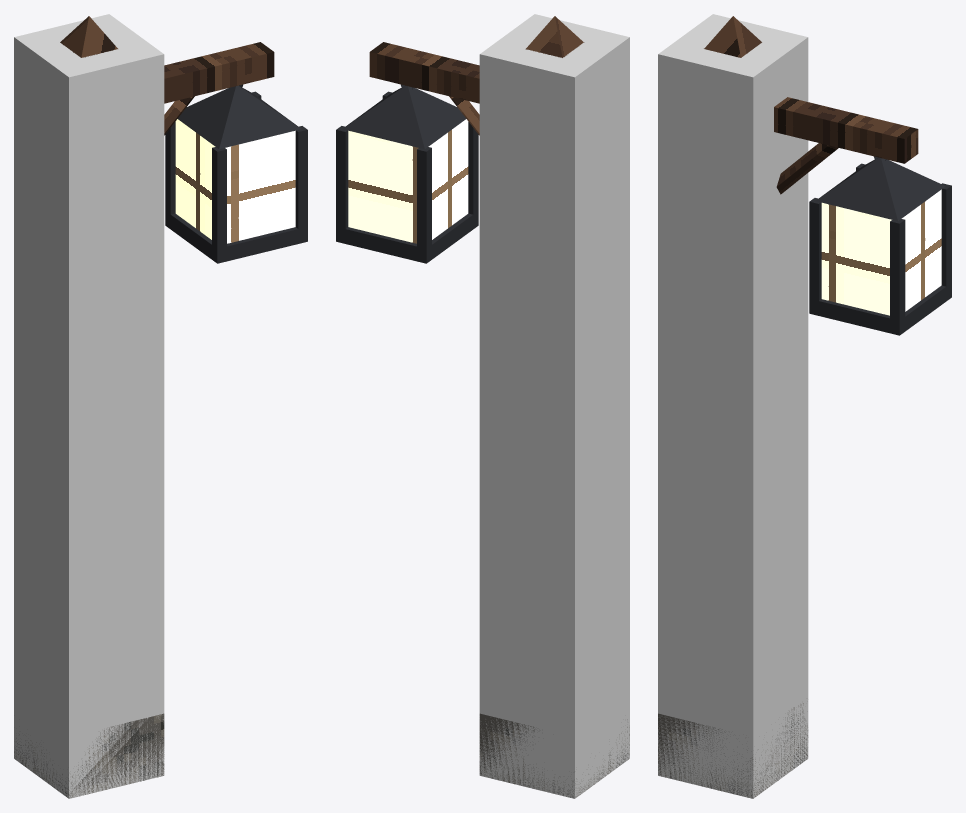
File: JP_Prop_LampPost_A.glb
3 views of the same model, side by side, from view 1: azimuth 30°, elevation 25°; view 2: azimuth 150°, elevation 25°; view 3: azimuth 330°, elevation 25° (orthographic).
Visible parts, largest first — view 1: COL_JP_Prop_LampPost_A, JP_Prop_LampPost_A; view 2: COL_JP_Prop_LampPost_A, JP_Prop_LampPost_A; view 3: COL_JP_Prop_LampPost_A, JP_Prop_LampPost_A.
Part boxes in pixels (box(x1,y1,x2,y2)): COL_JP_Prop_LampPost_A: box(14, 14, 164, 798); JP_Prop_LampPost_A: box(14, 16, 307, 798); COL_JP_Prop_LampPost_A: box(479, 14, 629, 798); JP_Prop_LampPost_A: box(336, 16, 629, 798); COL_JP_Prop_LampPost_A: box(658, 14, 808, 798); JP_Prop_LampPost_A: box(658, 16, 951, 798).
Bounding box in the file's own units: 1.01 × 3.02 × 0.4.
Materials: 4 (4 with a texture image).
